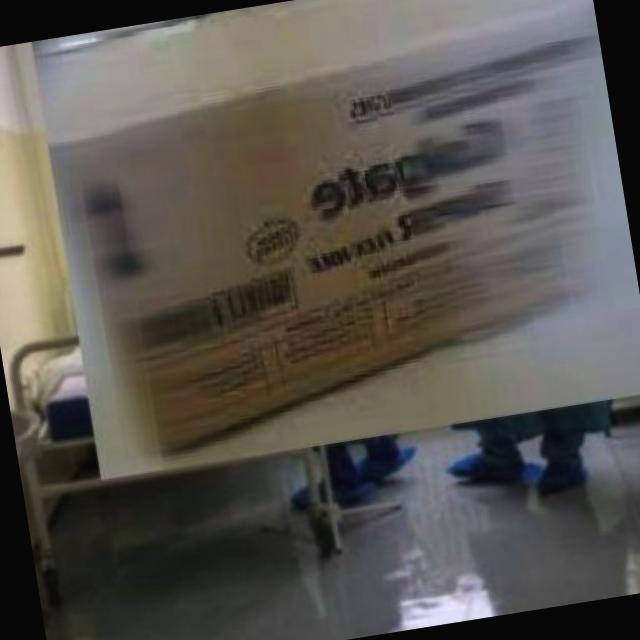box: (22, 0, 640, 490)
